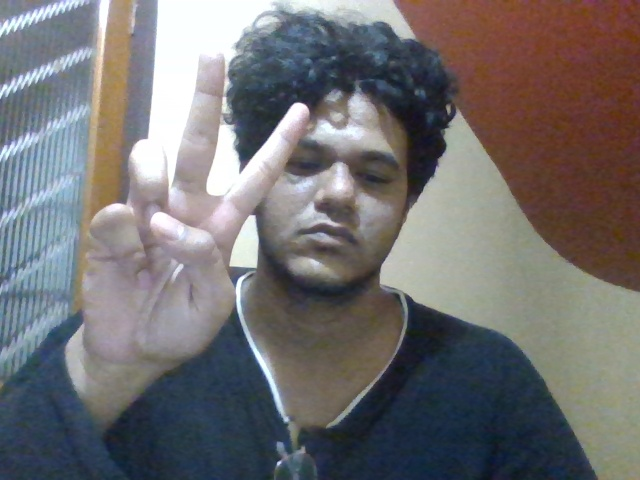yes: (69, 58, 307, 362)
